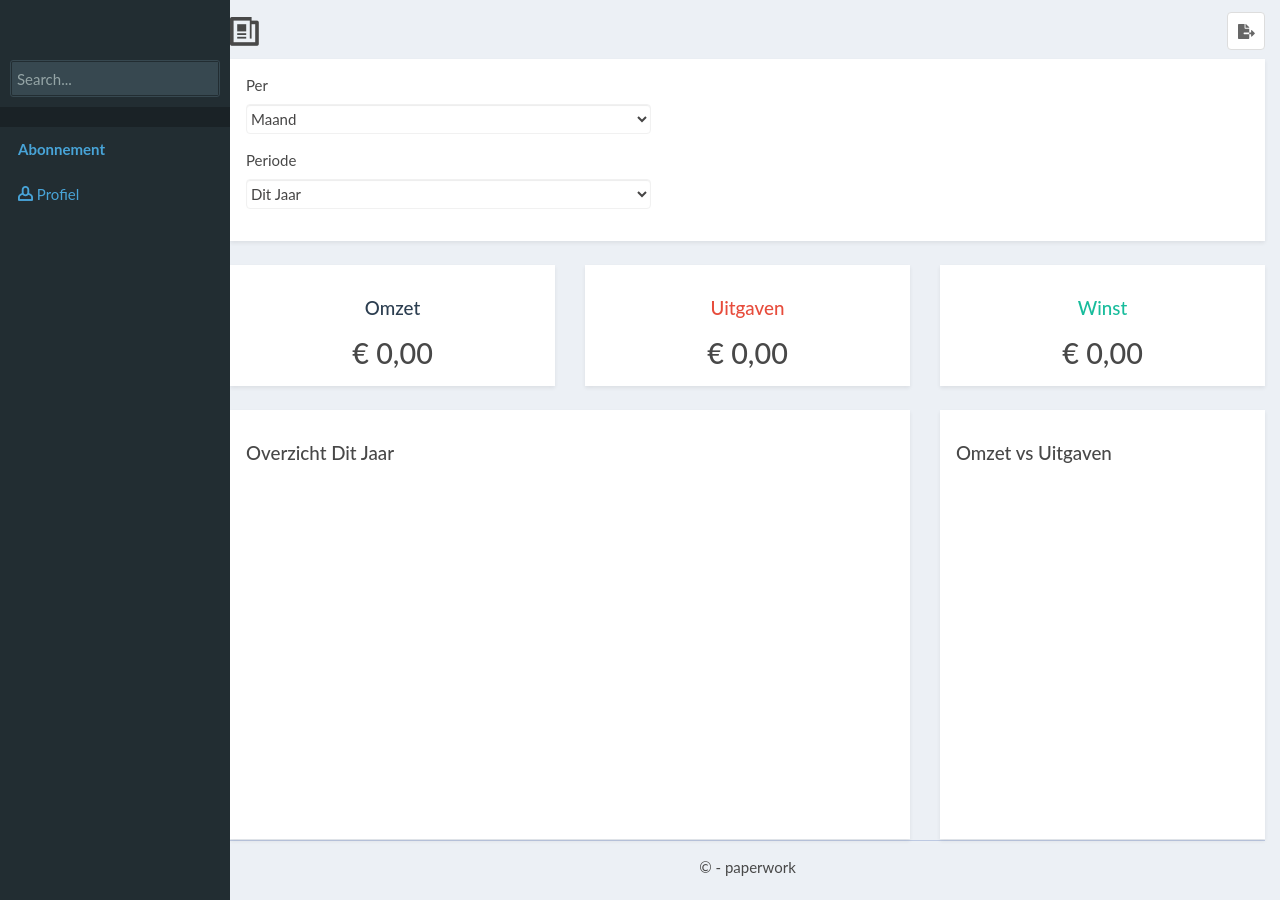
Scenario: Dashboard › reveals the custom date inputs only when the CUSTOM preset is selected
Expected: the field labelled "Startdatum" is not shown
Select "Aangepaste Periode" in the dropdown labelled "Periode". click: (448, 194)
box: [246,179,651,209]
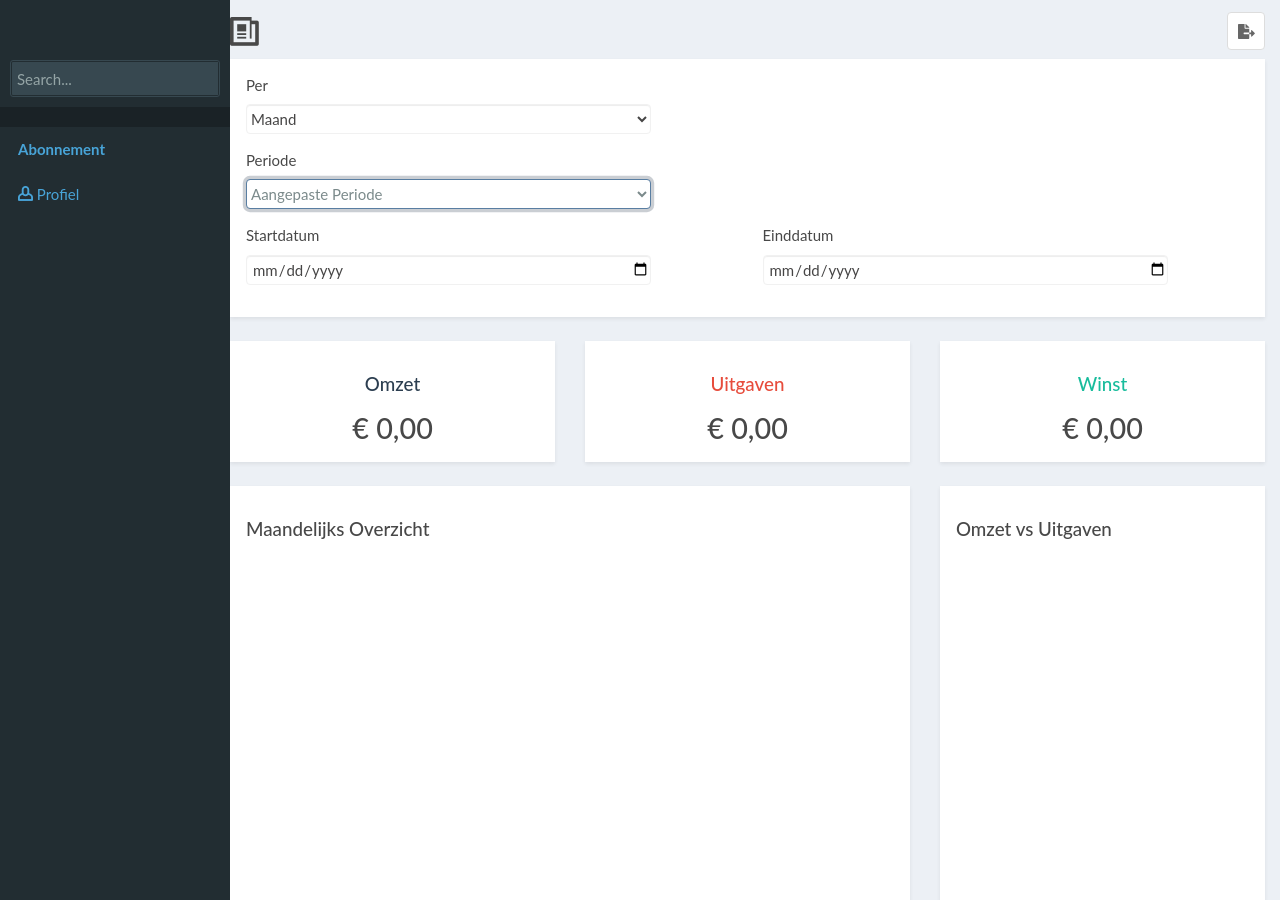
Result: the date field labelled "Startdatum" is shown at [246,255,651,285]
Result: the date field labelled "Einddatum" is shown at [762,255,1168,285]
